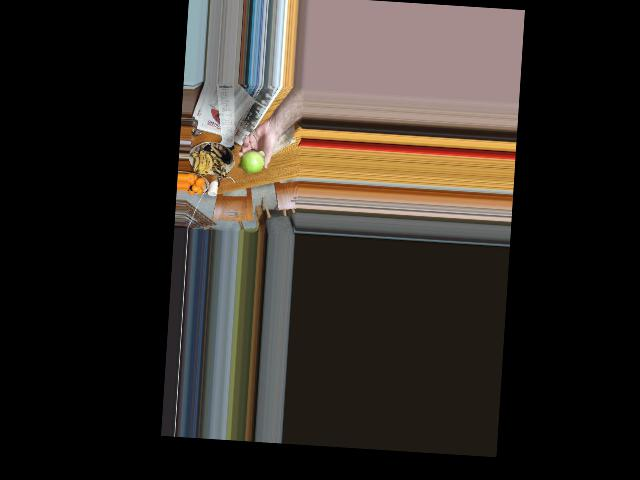apple: (239, 149, 263, 175)
